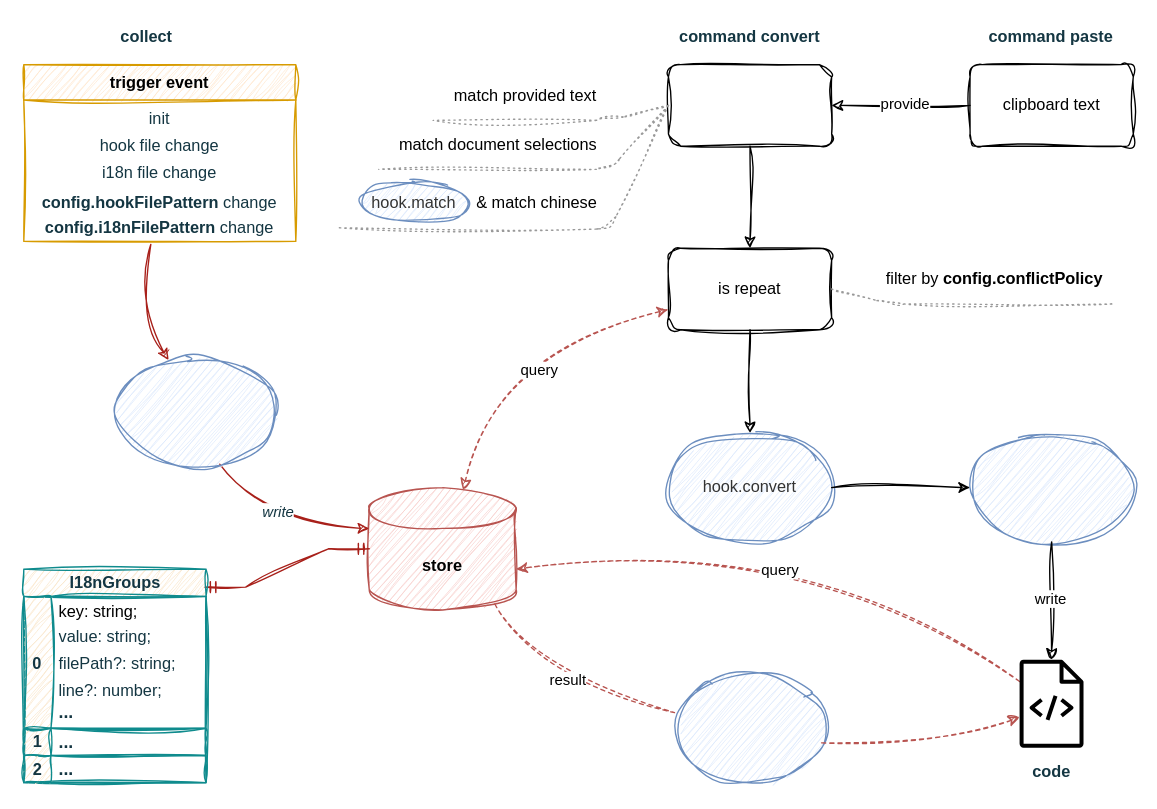
The diagram is 1157 pixels wide and 809 high, and some of its shapes have lost their labels. The centre of each missing label's shape, as x and y in pixels:
hook.collectI18n: pixel 196 411
hook.matchI18n: pixel 749 728
hook.write: pixel 1051 487
match: pixel 749 104
